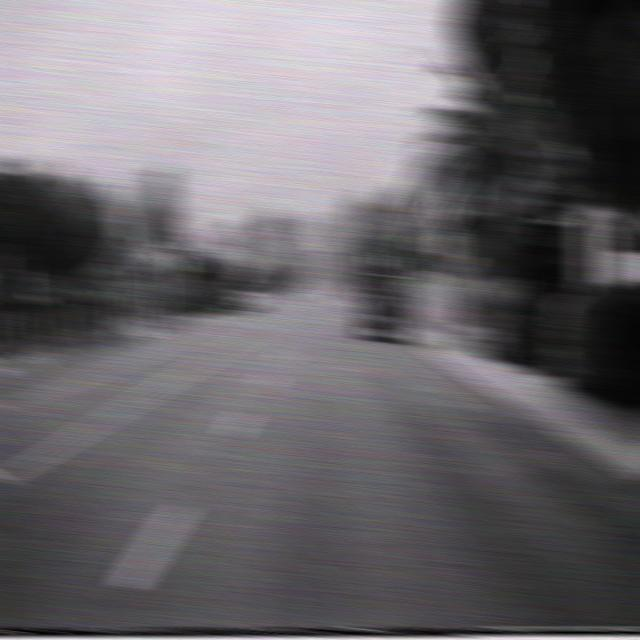pedestrianCrossing: (425, 188, 461, 234)
